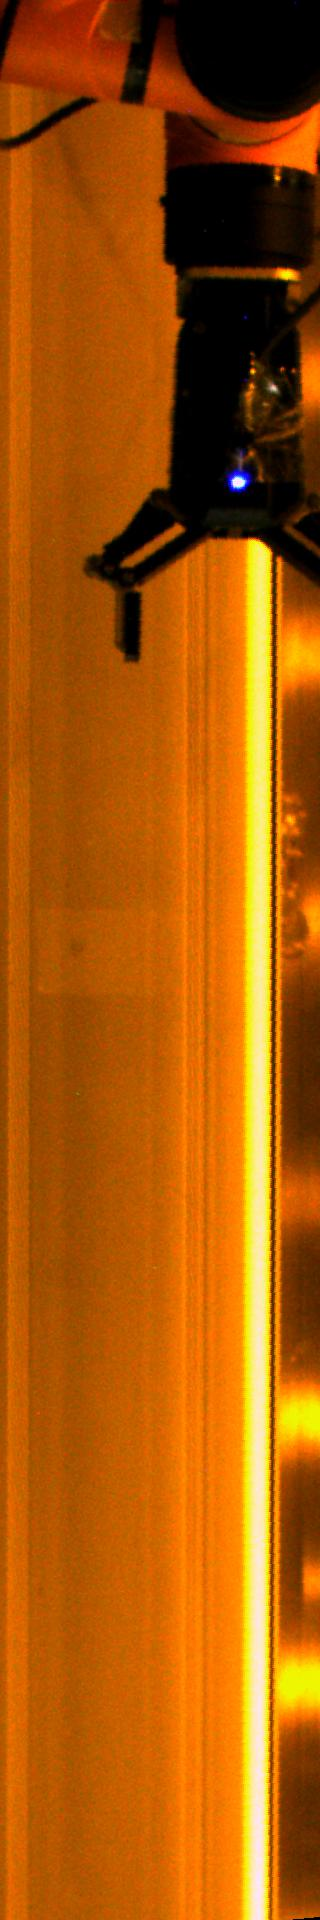keyPoint_1: (224, 468, 254, 498)
